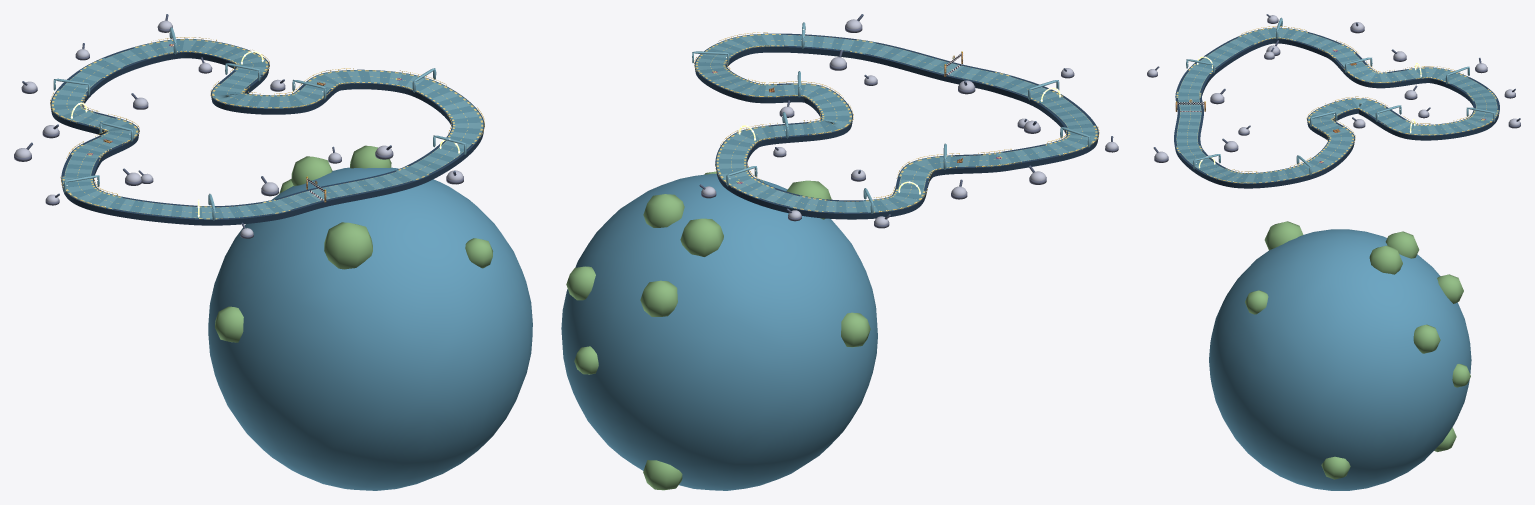
File: carreras_estacion.glb
3 renders of one model, left to right at view 1: azimuth 30°, elevation 25°; view 2: azimuth 150°, elevation 25°; view 3: azimuth 270°, elevation 25°, orthographic. The views are drawn at different scales.
Visible parts, largest first — view 1: estacion Laca | luna #659fbc 99 99, estacion Laca | crater #8db880 99 99, estacion Tela | camino claro estacion 0 -1, estacion Tela | camino estacion 0 -1, estacion Tela | camino estacion 0 0, estacion Tela | camino claro estacion 0 0, estacion Tela | talud estacion 0 -1, estacion Tela | camino claro estacion -1 -1, estacion Tela | camino estacion -1 -1, estacion Tela | camino estacion -1 0, estacion Tela | camino claro estacion -1 0, estacion Tela | talud estacion -1 -1 (+7 smaller); view 2: estacion Laca | luna #659fbc 99 99, estacion Laca | crater #8db880 99 99, estacion Tela | camino estacion 0 0, estacion Tela | camino claro estacion 0 0, estacion Tela | camino claro estacion 0 -1, estacion Tela | camino estacion 0 -1, estacion Tela | camino estacion -1 0, estacion Tela | camino claro estacion -1 0, estacion Tela | camino claro estacion -1 -1, estacion Tela | camino estacion -1 -1, estacion Tela | talud estacion 0 0, estacion Tela | talud estacion -1 0 (+6 smaller); view 3: estacion Laca | luna #659fbc 99 99, estacion Laca | crater #8db880 99 99, estacion Tela | camino claro estacion 0 0, estacion Tela | camino estacion 0 0, estacion Tela | camino estacion 0 -1, estacion Tela | camino claro estacion 0 -1, estacion Tela | camino claro estacion -1 -1, estacion Tela | camino estacion -1 -1, estacion Tela | camino estacion -1 0, estacion Tela | camino claro estacion -1 0, estacion Tela | talud estacion 0 0, estacion Tela | talud estacion 0 -1 (+6 smaller).
Boxes of the visible parts, box(x1,y1,x2,y2) form: estacion Laca | luna #659fbc 99 99: box(208, 167, 532, 490); estacion Laca | crater #8db880 99 99: box(215, 145, 492, 342); estacion Tela | camino claro estacion 0 -1: box(281, 72, 481, 199); estacion Tela | camino estacion 0 -1: box(288, 74, 480, 198); estacion Tela | camino estacion 0 0: box(130, 40, 390, 107); estacion Tela | camino claro estacion 0 0: box(127, 40, 379, 107); estacion Tela | talud estacion 0 -1: box(258, 83, 483, 207); estacion Tela | camino claro estacion -1 -1: box(64, 160, 321, 218); estacion Tela | camino estacion -1 -1: box(64, 164, 318, 218); estacion Tela | camino estacion -1 0: box(54, 53, 134, 162); estacion Tela | camino claro estacion -1 0: box(54, 51, 139, 158); estacion Tela | talud estacion -1 -1: box(62, 158, 324, 225); estacion Laca | luna #659fbc 99 99: box(561, 173, 877, 490); estacion Laca | crater #8db880 99 99: box(566, 171, 870, 490); estacion Tela | camino estacion 0 0: box(707, 73, 849, 199); estacion Tela | camino claro estacion 0 0: box(712, 75, 849, 200); estacion Tela | camino claro estacion 0 -1: box(698, 34, 957, 100); estacion Tela | camino estacion 0 -1: box(698, 34, 951, 97); estacion Tela | camino estacion -1 0: box(774, 151, 1020, 212); estacion Tela | camino claro estacion -1 0: box(768, 152, 1011, 212); estacion Tela | camino claro estacion -1 -1: box(948, 66, 1095, 161); estacion Tela | camino estacion -1 -1: box(952, 66, 1095, 159); estacion Tela | talud estacion 0 0: box(697, 72, 852, 207); estacion Tela | talud estacion -1 0: box(766, 161, 1035, 219); estacion Laca | luna #659fbc 99 99: box(1209, 229, 1471, 490); estacion Laca | crater #8db880 99 99: box(1245, 221, 1470, 479); estacion Tela | camino claro estacion 0 0: box(1317, 99, 1497, 157); estacion Tela | camino estacion 0 0: box(1317, 99, 1497, 161); estacion Tela | camino estacion 0 -1: box(1176, 114, 1333, 182); estacion Tela | camino claro estacion 0 -1: box(1176, 111, 1333, 182); estacion Tela | camino claro estacion -1 -1: box(1178, 28, 1332, 110); estacion Tela | camino estacion -1 -1: box(1178, 28, 1326, 109); estacion Tela | camino estacion -1 0: box(1319, 41, 1497, 105); estacion Tela | camino claro estacion -1 0: box(1325, 44, 1497, 107); estacion Tela | talud estacion 0 0: box(1325, 103, 1499, 173); estacion Tela | talud estacion 0 -1: box(1174, 122, 1326, 188).
Size of the model in its own units: 350 by 275 by 277.
